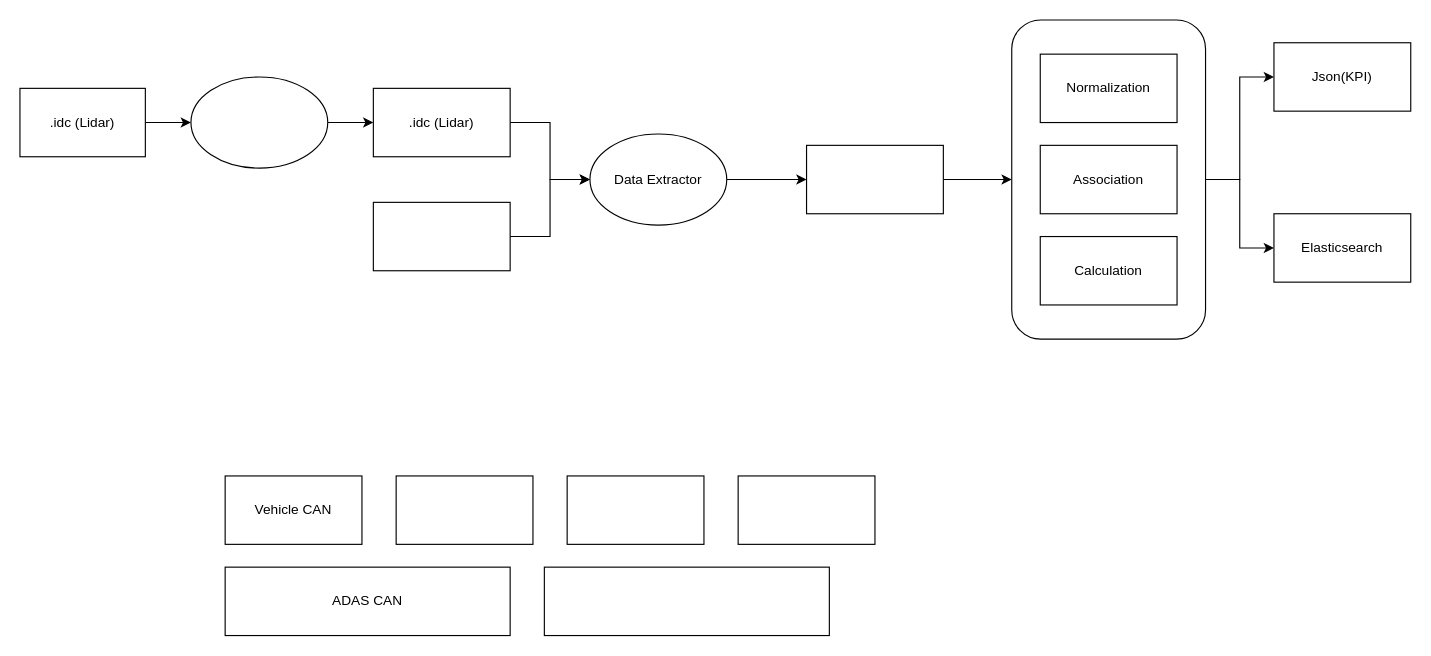
This 1431x656 diagram has some shape labels left out. The shapes that lost their labels are listed below. From the top down, each one's centre as x and y in pixels, then its label:
point (259, 122): IBEO Evaluation Suite
point (874, 179): Json (Lidar, CAN)
point (441, 236): .mf4 (CAN)
